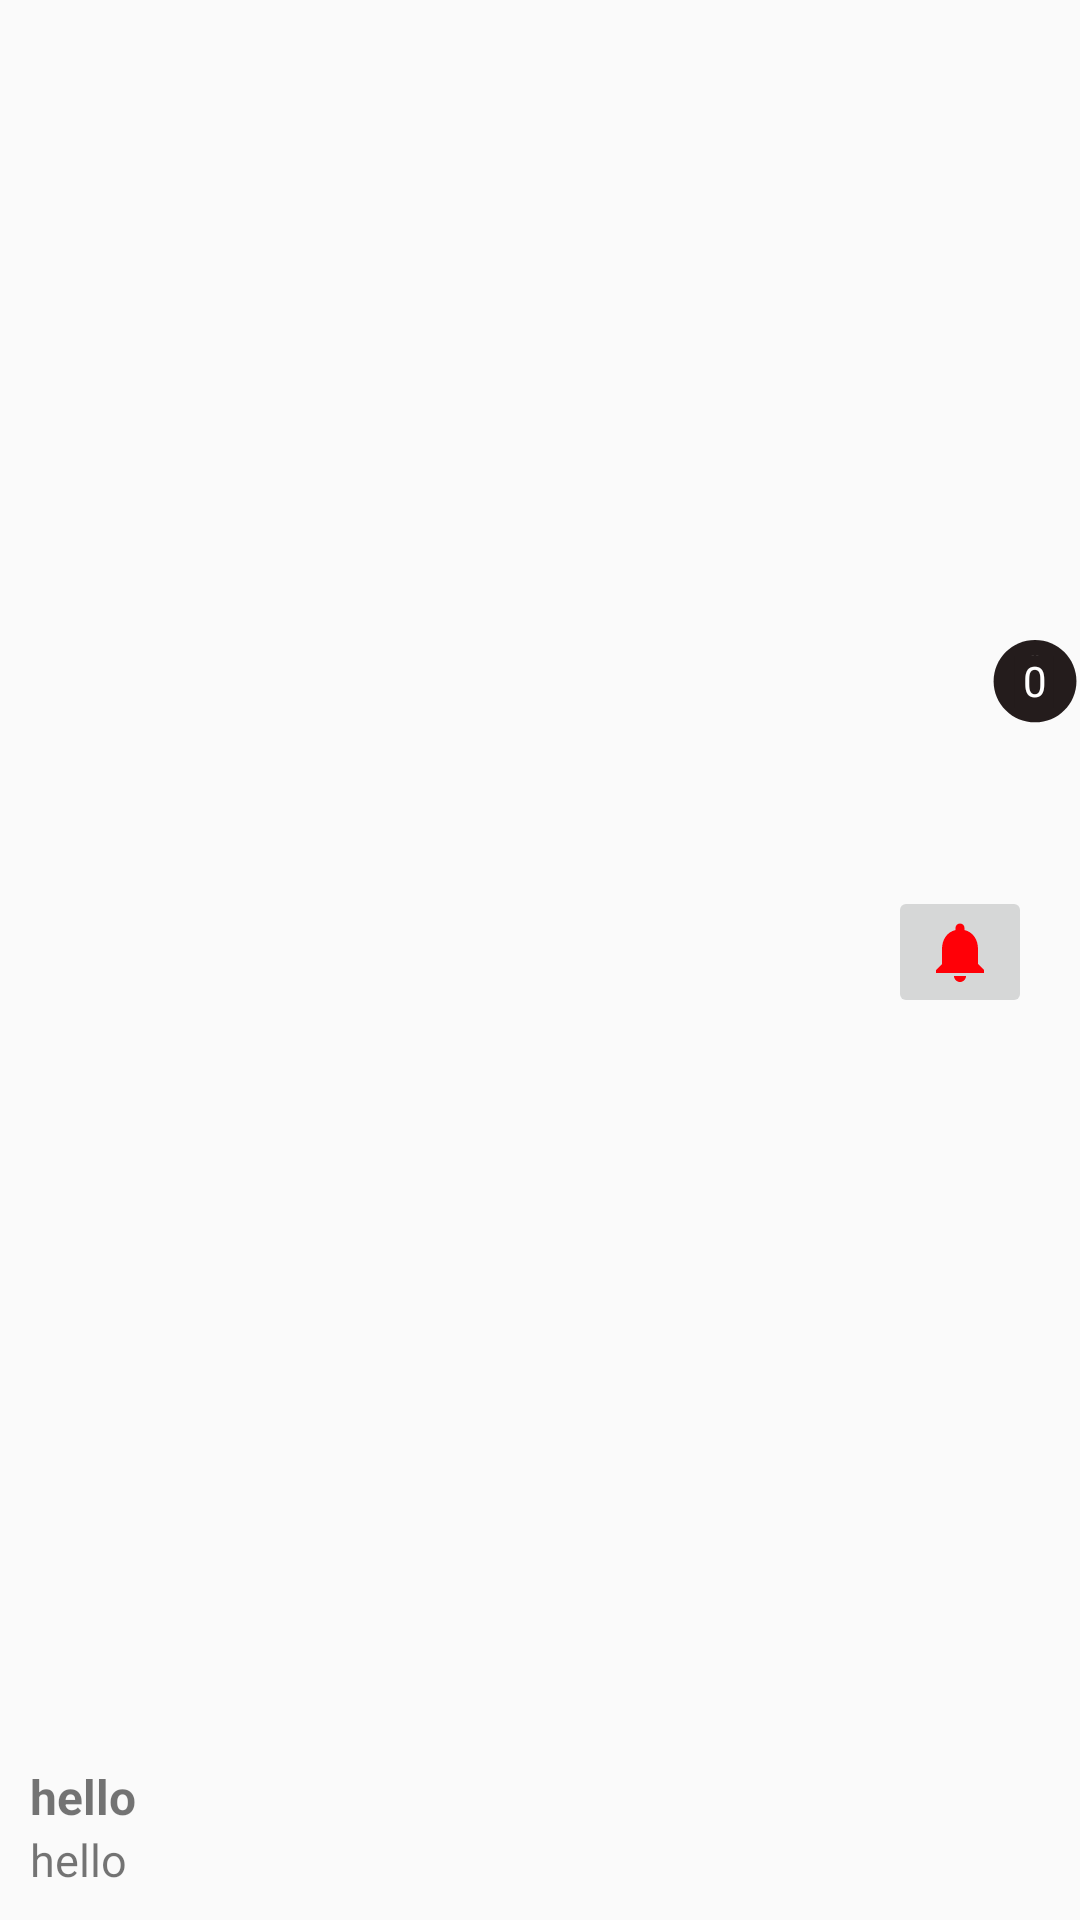

Where icons sit on this 1080*1920 app screen, as bbox(x1, y1, x2, y2):
notifications: bbox(900, 904, 1020, 1000)
